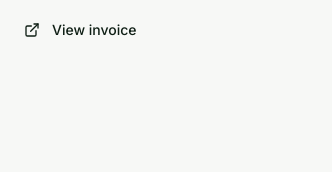
Test: SecureExternalLink › shows a failure message and retries when the URL cannot be fetched
The width and height of the screenshot is (332, 172).
Click the button "View invoice" at (80, 30), box left=12, top=12, right=149, bottom=48
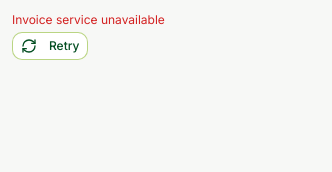
expect the text "Invoice service unavailable" is shown: met, box left=12, top=12, right=165, bottom=27
Click the button "Retry" at (50, 46), box left=12, top=32, right=88, bottom=60
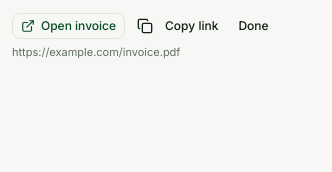
expect the link "Open invoice" is shown: met, box left=12, top=13, right=125, bottom=39
